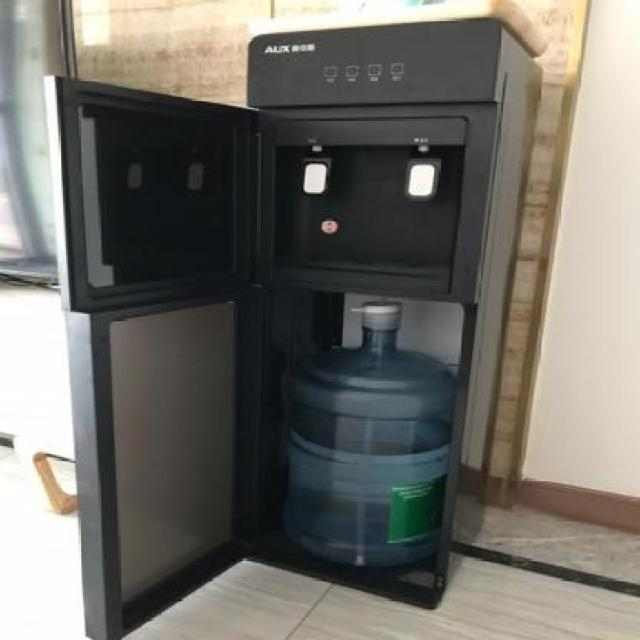cooler: (238, 0, 548, 616)
coolerbottle: (267, 297, 468, 572)
